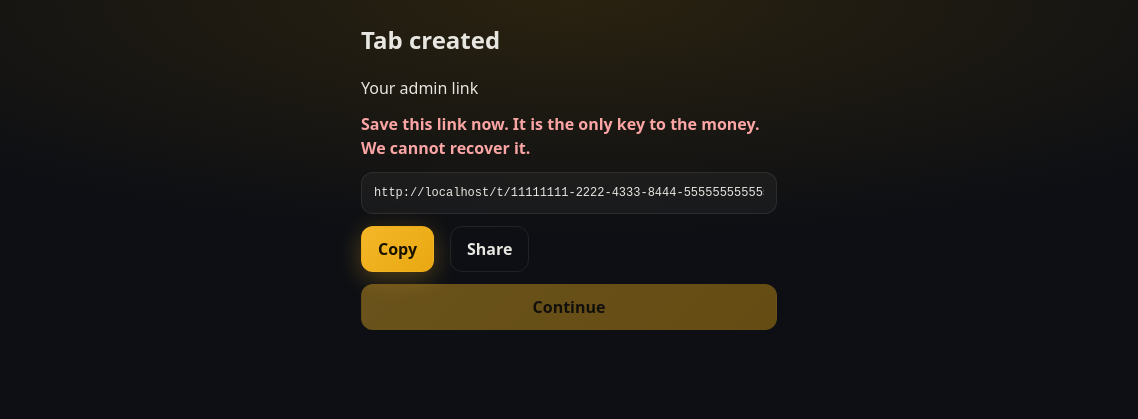
Test: Links › clipboard failure shows the manual-copy message and still enables Continue
Click the button "Copy" at [398, 249], box [361,226,434,272]
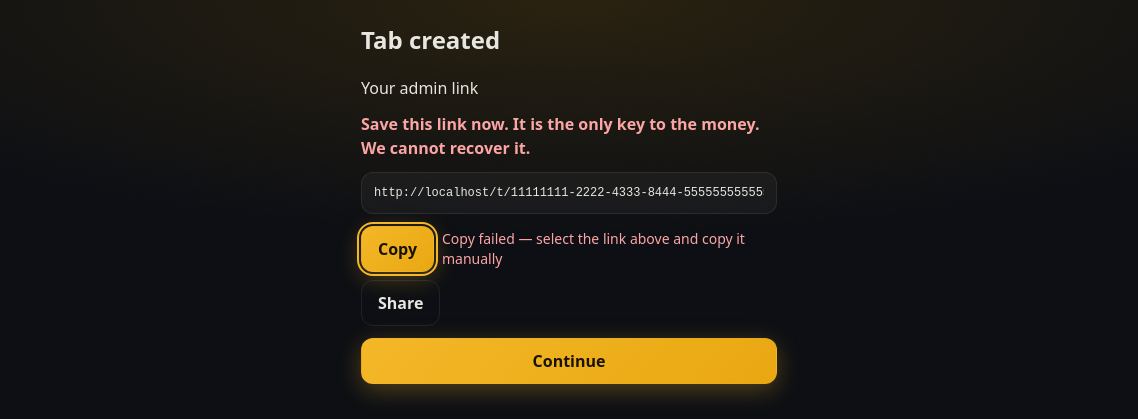
Check: the text "Copy failed — select the link above and copy it manually" is shown, box [442,229,777,269]
Check: the button "Continue" is enabled, box [361,338,777,384]
